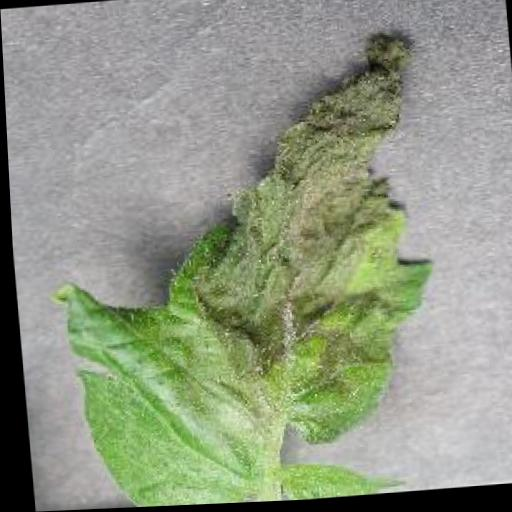Late Blight: (35, 31, 454, 511)
